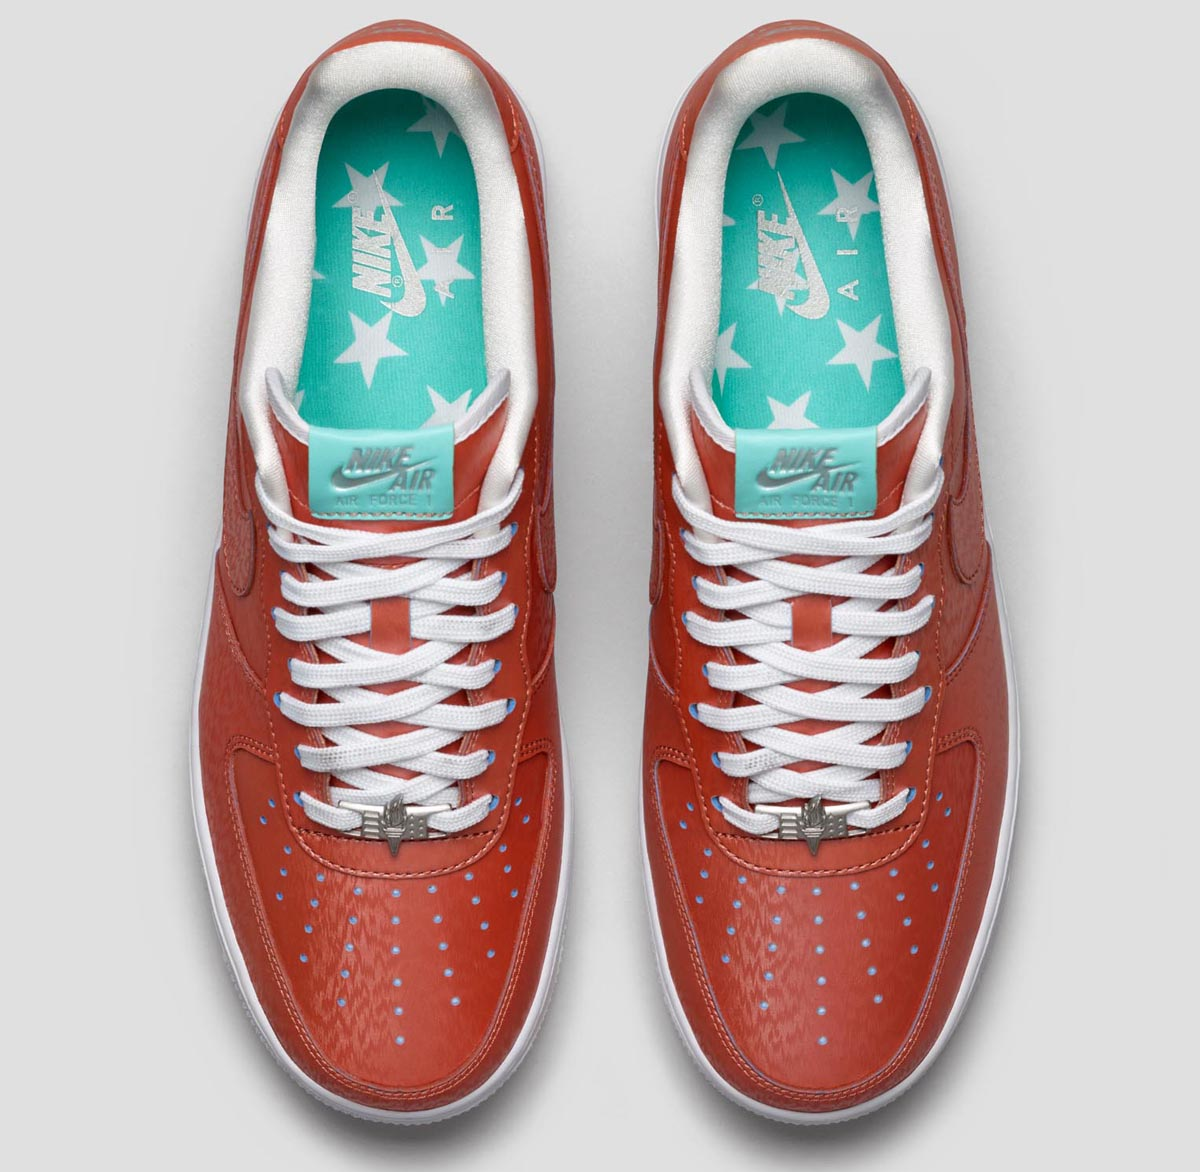shoes: (630, 16, 1033, 1134), (185, 29, 570, 1139)
